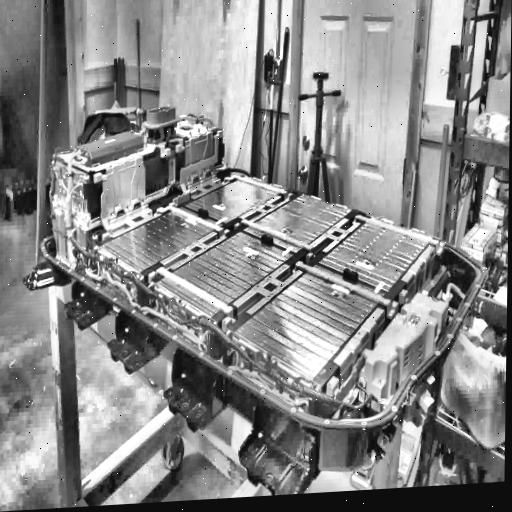battery_module: (234, 263, 385, 380), (156, 232, 291, 318), (319, 216, 432, 290), (98, 207, 222, 273), (243, 193, 350, 252), (183, 177, 281, 225)
bms_unit: (69, 126, 144, 167)
busbar: (292, 257, 402, 320), (145, 262, 238, 333), (344, 206, 448, 259), (170, 126, 227, 206), (234, 213, 319, 261), (224, 168, 295, 204), (91, 169, 117, 247)
connector: (140, 97, 186, 144)
high_volt_cable: (59, 153, 308, 412)
low_volt_cable: (44, 145, 384, 414)
